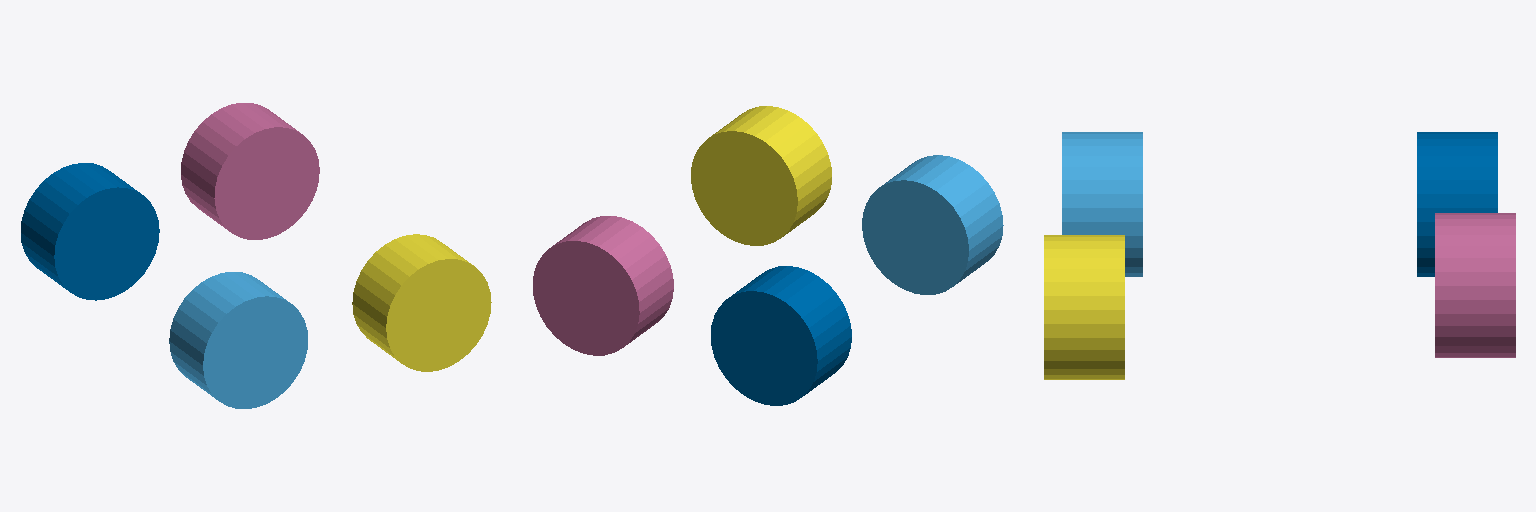
The robot description file, URDF, robot "pupper_v3":
<?xml version="1.0" ?>
<robot name="pupper_v3" version="1.0">

  <mujoco><compiler discardvisual="false" meshdir="../meshes/stl/"/></mujoco>
  <!-- Joints -->
  <joint name="leg_front_r_1" type="revolute">
    <limit lower="-1.22000" upper="2.51000" effort="3.00000" velocity="100.00000" />
    <origin rpy="1.57080 0.00000 0.00000" xyz="0.07500 -0.08350 0.00000" />
    <parent link="base_link" />
    <child link="leg_front_r_1" />
    <axis xyz="0.00000 0.00000 1.00000" />
  </joint>
  <joint name="leg_front_r_2" type="revolute">
    <limit lower="-0.42000" upper="3.14000" effort="3.00000" velocity="100.00000" />
    <origin rpy="1.49199 -1.57080 -1.49198" xyz="0.00000 0.00000 0.00000" />
    <parent link="leg_front_r_1" />
    <child link="leg_front_r_2" />
    <axis xyz="0.00000 0.00000 1.00000" />
  </joint>
  <joint name="leg_front_r_wheel_joint" type="continuous">
    <origin rpy="-0.00000 1.57080 0.00000" xyz="0.03750 -0.04940 0.06850" />
    <parent link="leg_front_r_2" />
    <child link="leg_front_r_wheel"/>
    <axis xyz="0.00000 0.00000 1.00000" />
  </joint>

  <joint name="leg_front_l_1" type="revolute">
    <limit lower="-2.51000" upper="1.22000" effort="3.00000" velocity="100.00000" />
    <origin rpy="-1.57080 0.00000 0.00000" xyz="0.07500 0.08350 0.00000" />
    <parent link="base_link" />
    <child link="leg_front_l_1" />
    <axis xyz="0.00000 0.00000 1.00000" />
  </joint>
  <joint name="leg_front_l_2" type="revolute">
    <limit lower="-3.14000" upper="0.42000" effort="3.00000" velocity="100.00000" />
    <origin rpy="1.49199 1.57080 -1.49198" xyz="0.00000 0.00000 0.00000" />
    <parent link="leg_front_l_1" />
    <child link="leg_front_l_2" />
    <axis xyz="0.00000 0.00000 1.00000" />
  </joint>
  <joint name="leg_front_l_wheel_joint" type="continuous">
    <parent link="leg_front_l_2"/>
    <child link="leg_front_l_wheel"/>
    <origin rpy="-0.00000 1.57080 0.00000" xyz="-0.03750 -0.04940 0.06850"/>
    <axis xyz="0 0 1"/>
  </joint>

  <joint name="leg_back_r_1" type="revolute">
    <limit lower="-1.22000" upper="2.51000" effort="3.00000" velocity="100.00000" />
    <origin rpy="1.57080 0.00000 0.00000" xyz="-0.07500 -0.07250 0.00000" />
    <parent link="base_link" />
    <child link="leg_back_r_1" />
    <axis xyz="0.00000 0.00000 1.00000" />
  </joint>
  <joint name="leg_back_r_2" type="revolute">
    <limit lower="-0.42000" upper="3.14000" effort="3.00000" velocity="100.00000" />
    <origin rpy="1.49199 -1.57080 -1.49198" xyz="0.00000 0.00000 0.00000" />
    <parent link="leg_back_r_1" />
    <child link="leg_back_r_2" />
    <axis xyz="0.00000 0.00000 1.00000" />
  </joint>
  <joint name="leg_back_r_wheel_joint" type="continuous">
    <parent link="leg_back_r_2"/>
    <child link="leg_back_r_wheel"/>
    <origin rpy="-0.00000 1.57080 0.00000" xyz="0.03750 -0.04940 0.06850"/>
    <axis xyz="0 0 1"/>
  </joint>

  <joint name="leg_back_l_1" type="revolute">
    <limit lower="-2.51000" upper="1.22000" effort="3.00000" velocity="100.00000" />
    <origin rpy="-1.57080 0.00000 0.00000" xyz="-0.07500 0.07250 0.00000" />
    <parent link="base_link" />
    <child link="leg_back_l_1" />
    <axis xyz="0.00000 0.00000 1.00000" />
  </joint>
  <joint name="leg_back_l_2" type="revolute">
    <limit lower="-3.14000" upper="0.42000" effort="3.00000" velocity="100.00000" />
    <origin rpy="1.57080 1.57080 -1.57080" xyz="0.00000 0.00000 0.00000" />
    <parent link="leg_back_l_1" />
    <child link="leg_back_l_2" />
    <axis xyz="0.00000 0.00000 1.00000" />
  </joint>
  <joint name="leg_back_l_wheel_joint" type="continuous">
    <parent link="leg_back_l_2"/>
    <child link="leg_back_l_wheel"/>
    <origin rpy="-0.00000 1.57080 0.00000" xyz="-0.03750 -0.04940 0.06850"/>
    <axis xyz="0 0 1"/>
  </joint>

  <!-- Links -->
  <link name="base_link">
    <collision name="body_collision">
      <origin rpy="-1.57080 -0.00000 1.57080" xyz="0.02146 -0.00000 0.03345" />
      <geometry>
        <box size="0.09014 0.12758 0.25943" />
      </geometry>
    </collision>
    <inertial>
      <inertia ixx="0.00240" ixy="0.000000" ixz="-0.0005" iyy="0.00850" iyz="0.00000" izz="0.00850" />
      <origin rpy="0.00000 0.00000 0.00000" xyz="0.02500 0.00000 0.01500" />
      <mass value="1.506" />
    </inertial>
    <visual name="body">
      <origin rpy="-1.57080 -0.00000 1.57080" xyz="0.00000 0.00000 0.00000" />
      <geometry>
        <mesh filename="package://pupper_v3_description/description/meshes/stl/BodyV4v70_001.stl" scale="1.00000 1.00000 1.00000" />
      </geometry>
    </visual>
  </link>
  <link name="leg_front_r_1">
    <inertial>
      <inertia ixx="0.000074" ixy="0.0" ixz="0.0" iyy="0.000058" iyz="0.0" izz="0.000048" />
      <origin rpy="0.00000 0.00000 0.00000" xyz="0.0 0.0 0.0" />
      <mass value="0.18000" />
    </inertial>
    <visual name="Leg Assembly For Flanged v26.001">
      <origin rpy="0.00000 0.00000 3.14159" xyz="0.00000 0.00000 -0.02800" />
      <geometry>
        <mesh filename="package://pupper_v3_description/description/meshes/stl/LegAssemblyForFlangedv26_001.stl" scale="1.00000 1.00000 1.00000" />
      </geometry>
    </visual>
  </link>
  <link name="leg_front_r_2">
    <collision name="Cylinder">
      <origin rpy="-0.00000 1.57080 0.00000" xyz="0.00000 -0.04940 0.06850" />
      <geometry>
        <cylinder radius="0.02500" length="0.03000" />
      </geometry>
    </collision>
    <inertial>
      <inertia ixx="0.000113" ixy="0.0" ixz="0.0" iyy="0.000067" iyz="0.000025" izz="0.000077" />
      <origin rpy="0.00000 0.00000 0.00000" xyz="0.0 -0.03340 0.05419" />
      <mass value="0.18600" />
    </inertial>
    <visual name="Leg Assembly For Flanged v26.002">
      <origin rpy="0.26213 -1.57080 2.87947" xyz="-0.02800 -0.00000 -0.00000" />
      <geometry>
        <mesh filename="package://pupper_v3_description/description/meshes/stl/LegAssemblyForFlangedv26_002.stl" scale="1.00000 1.00000 1.00000" />
      </geometry>
    </visual>
  </link>
  <link name="leg_front_r_wheel">
    <collision>
      <geometry>
        <cylinder radius="0.045" length="0.05"/>
      </geometry>
    </collision>
    <inertial>
      <mass value="0.1"/>
      <inertia ixx="0.0001" ixy="0" ixz="0" iyy="0.0001" iyz="0" izz="0.0001"/>
    </inertial>
    <visual>
      <geometry>
        <cylinder radius="0.045" length="0.05"/>
      </geometry>
    </visual>
  </link>
  <link name="leg_front_l_1">
    <inertial>
      <inertia ixx="0.000074" ixy="0.0" ixz="0.0" iyy="0.000058" iyz="0.0" izz="0.000048" />
      <origin rpy="0.00000 0.00000 0.00000" xyz="0.0 0.0 0.0" />
      <mass value="0.18000" />
    </inertial>
    <visual name="Leg Assembly For Flanged v26.009">
      <origin rpy="0.00000 0.00000 3.14159" xyz="0.00000 0.00000 -0.02800" />
      <geometry>
        <mesh filename="package://pupper_v3_description/description/meshes/stl/LegAssemblyForFlangedv26_010.stl" scale="1.00000 -1.00000 1.00000" />
      </geometry>
    </visual>
  </link>
  <link name="leg_front_l_2">
    <inertial>
      <inertia ixx="0.000113" ixy="0.0" ixz="0.0" iyy="0.000067" iyz="0.000025" izz="0.000077" />
      <origin rpy="0.00000 0.00000 0.00000" xyz="0 -0.03340 0.05419" />
      <mass value="0.18600" />
    </inertial>
    <visual name="Leg Assembly For Flanged v26.010">
      <origin rpy="0.26213 -1.57080 2.87947" xyz="+0.02800 -0.00000 -0.00000" />
      <geometry>
        <mesh filename="package://pupper_v3_description/description/meshes/stl/LegAssemblyForFlangedv26_011.stl" scale="1.00000 1.00000 -1.00000" />
      </geometry>
    </visual>
  </link>
  <link name="leg_front_l_wheel">
    <collision>
      <geometry>
        <cylinder radius="0.045" length="0.05"/>
      </geometry>
    </collision>
    <inertial>
      <mass value="0.1"/>
      <inertia ixx="0.0001" ixy="0" ixz="0" iyy="0.0001" iyz="0" izz="0.0001"/>
    </inertial>
    <visual>
      <geometry>
        <cylinder radius="0.045" length="0.05"/>
      </geometry>
    </visual>
  </link>
  <link name="leg_back_r_1">
    <inertial>
      <inertia ixx="0.000074" ixy="0.0" ixz="0.0" iyy="0.000058" iyz="0.0" izz="0.000048" />
      <origin rpy="0.00000 0.00000 0.00000" xyz="0.0 0.0 0.0" />
      <mass value="0.18000" />
    </inertial>
    <visual name="Leg Assembly For Flanged v26.005">
      <origin rpy="0.00000 0.00000 3.14159" xyz="0.00000 0.00000 -0.02800" />
      <geometry>
        <mesh filename="package://pupper_v3_description/description/meshes/stl/LegAssemblyForFlangedv26_005.stl" scale="1.00000 1.00000 1.00000" />
      </geometry>
    </visual>
  </link>
  <link name="leg_back_r_2">
    <collision name="Cylinder">
      <origin rpy="-0.00000 1.57080 0.00000" xyz="0.00000 -0.04940 0.06850" />
      <geometry>
        <cylinder radius="0.02500" length="0.03000" />
      </geometry>
    </collision>
    <inertial>
      <inertia ixx="0.000113" ixy="0.0" ixz="0.0" iyy="0.000067" iyz="0.000025" izz="0.000077" />
      <origin rpy="0.00000 0.00000 0.00000" xyz="0.0 -0.03340 0.05419" />
      <mass value="0.18600" />
    </inertial>
    <visual name="Leg Assembly For Flanged v26.006">
      <origin rpy="0.26213 -1.57080 2.87947" xyz="-0.02800 -0.00000 -0.00000" />
      <geometry>
        <mesh filename="package://pupper_v3_description/description/meshes/stl/LegAssemblyForFlangedv26_006.stl" scale="1.00000 1.00000 1.00000" />
      </geometry>
    </visual>
  </link>
  <link name="leg_back_r_wheel">
    <collision>
      <geometry>
        <cylinder radius="0.045" length="0.05"/>
      </geometry>
    </collision>
    <inertial>
      <mass value="0.1"/>
      <inertia ixx="0.0001" ixy="0" ixz="0" iyy="0.0001" iyz="0" izz="0.0001"/>
    </inertial>
    <visual>
      <geometry>
        <cylinder radius="0.045" length="0.05"/>
      </geometry>
    </visual>
  </link>
  <link name="leg_back_l_1">
    <inertial>
      <inertia ixx="0.000074" ixy="0.0" ixz="0.0" iyy="0.000058" iyz="0.0" izz="0.000048" />
      <origin rpy="0.00000 0.00000 0.00000" xyz="0.0 0.0 0.0" />
      <mass value="0.18000" />
    </inertial>
    <visual name="Leg Assembly For Flanged v26.013">
      <origin rpy="0.00000 0.00000 3.14159" xyz="0.00000 0.00000 -0.02800" />
      <geometry>
        <mesh filename="package://pupper_v3_description/description/meshes/stl/LegAssemblyForFlangedv26_014.stl" scale="1.00000 -1.00000 1.00000" />
      </geometry>
    </visual>
  </link>
  <link name="leg_back_l_2">
    <inertial>
      <inertia ixx="0.000113" ixy="0.0" ixz="0.0" iyy="0.000067" iyz="0.000025" izz="0.000077" />
      <origin rpy="0.00000 0.00000 0.00000" xyz="0.0 -0.03340 0.05419" />
      <mass value="0.18600" />
    </inertial>
    <visual name="Leg Assembly For Flanged v26.013">
      <origin rpy="0.26213 -1.57080 2.87947" xyz=" +0.02800 -0.00000 -0.00000" />
      <geometry>
        <mesh filename="package://pupper_v3_description/description/meshes/stl/LegAssemblyForFlangedv26_014.stl" scale="1.00000 1.00000 -1.00000" />
      </geometry>
    </visual>
  </link>
  <link name="leg_back_l_wheel">
    <collision>
      <geometry>
        <cylinder radius="0.045" length="0.05"/>
      </geometry>
    </collision>
    <inertial>
      <mass value="0.1"/>
      <inertia ixx="0.0001" ixy="0" ixz="0" iyy="0.0001" iyz="0" izz="0.0001"/>
    </inertial>
    <visual>
      <geometry>
        <cylinder radius="0.045" length="0.05"/>
      </geometry>
    </visual>
  </link>
</robot>

--- Render facts (derived) ---
Views: 3 orthographic renders of the robot side by side, from view 1: azimuth 30°, elevation 25°; view 2: azimuth 150°, elevation 25°; view 3: azimuth 270°, elevation 25°.
Robot: pupper_v3 — 13 links, 12 joints (8 revolute, 4 continuous); root link base_link; default pose: every joint at zero.
Links seen in each view (by area): view 1: leg_back_l_wheel, leg_front_r_wheel, leg_back_r_wheel, leg_front_l_wheel; view 2: leg_front_l_wheel, leg_back_r_wheel, leg_front_r_wheel, leg_back_l_wheel; view 3: leg_front_r_wheel, leg_front_l_wheel, leg_back_r_wheel, leg_back_l_wheel.
Boxes of the visible links, <box> form: leg_back_l_wheel: <box>21,163,159,300</box>; leg_front_r_wheel: <box>352,234,491,371</box>; leg_back_r_wheel: <box>169,272,307,408</box>; leg_front_l_wheel: <box>181,103,319,239</box>; leg_front_l_wheel: <box>533,216,673,355</box>; leg_back_r_wheel: <box>862,155,1003,294</box>; leg_front_r_wheel: <box>691,106,831,245</box>; leg_back_l_wheel: <box>711,266,851,405</box>; leg_front_r_wheel: <box>1044,235,1124,379</box>; leg_front_l_wheel: <box>1435,213,1515,357</box>; leg_back_r_wheel: <box>1062,132,1142,276</box>; leg_back_l_wheel: <box>1417,132,1497,276</box>.
Size in the robot's own frame: 0.24 by 0.292 by 0.1013 metres.
Meshes: 8 distinct files referenced, 0 mesh visuals loaded (none loaded); not drawn: 9 (reference not matched to a file when rendering).